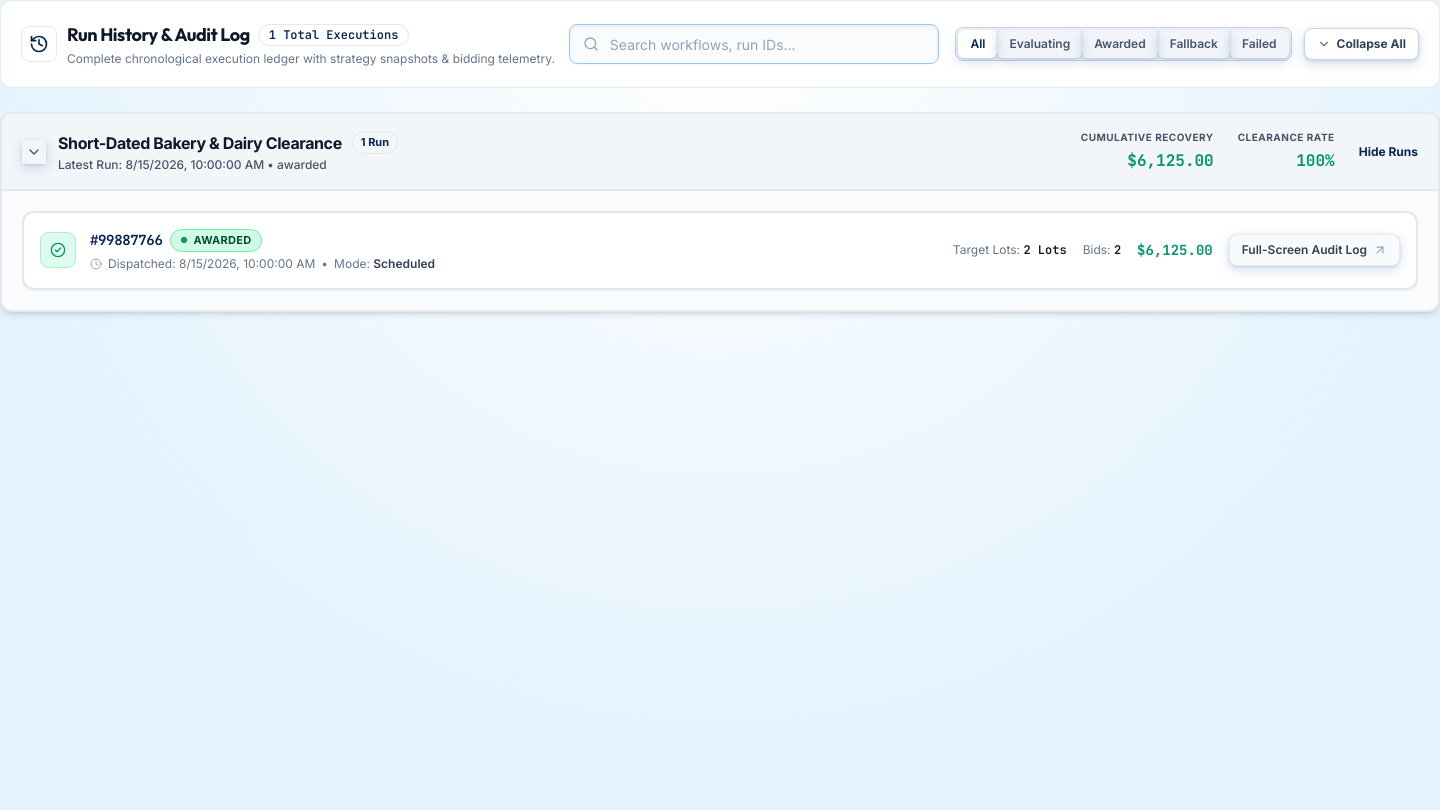
Scenario: Slice 2: Full-Screen Execution Audit Inspector & Stage-Gate Stepper › Integration with WorkflowRunHistoryView › opens and closes the WorkflowRunAuditModal when clicking run rows in WorkflowRunHistoryView
// Click row to open modal
Click the text "#99887766". click: (126, 240)
box: [90,230,162,250]
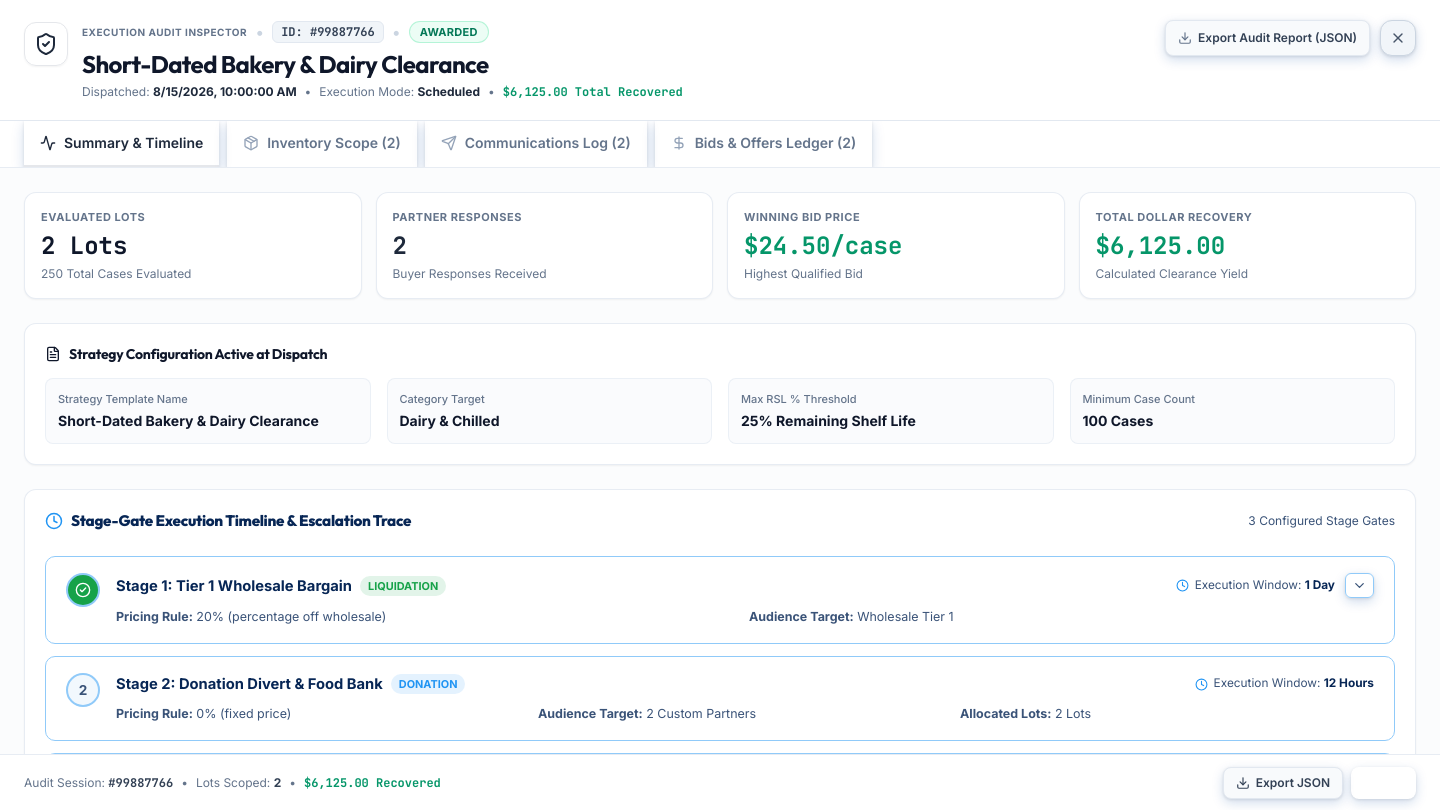
Expected: the element with test id "workflow-run-audit-modal" is shown
Expected: the text "250 Total Cases Evaluated" is shown, [41,266,192,280]
// Click close button
Click the button named "Close Audit Inspector". click: (1398, 38)
box: [1380,20,1416,56]
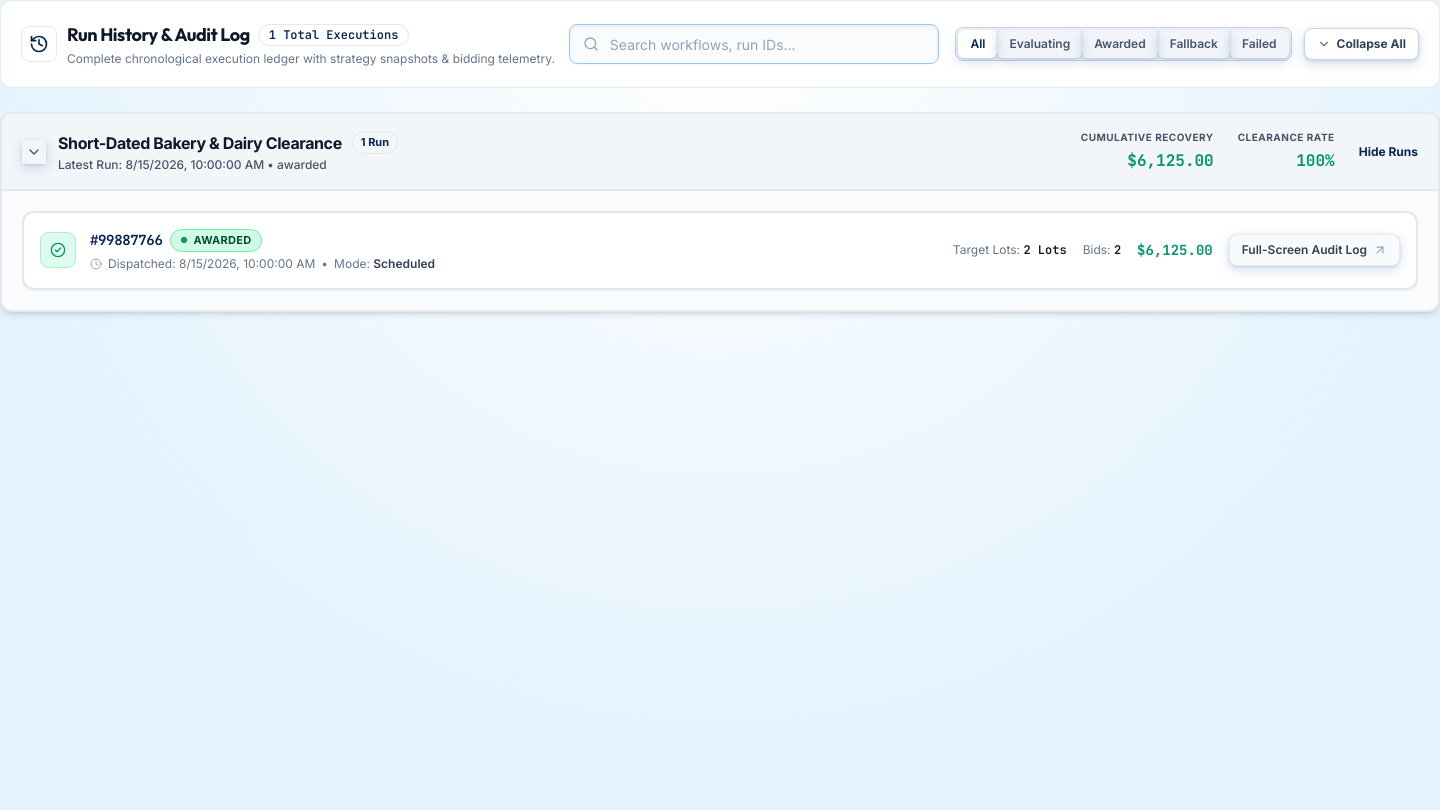
Expected: the element with test id "workflow-run-audit-modal" is gone
